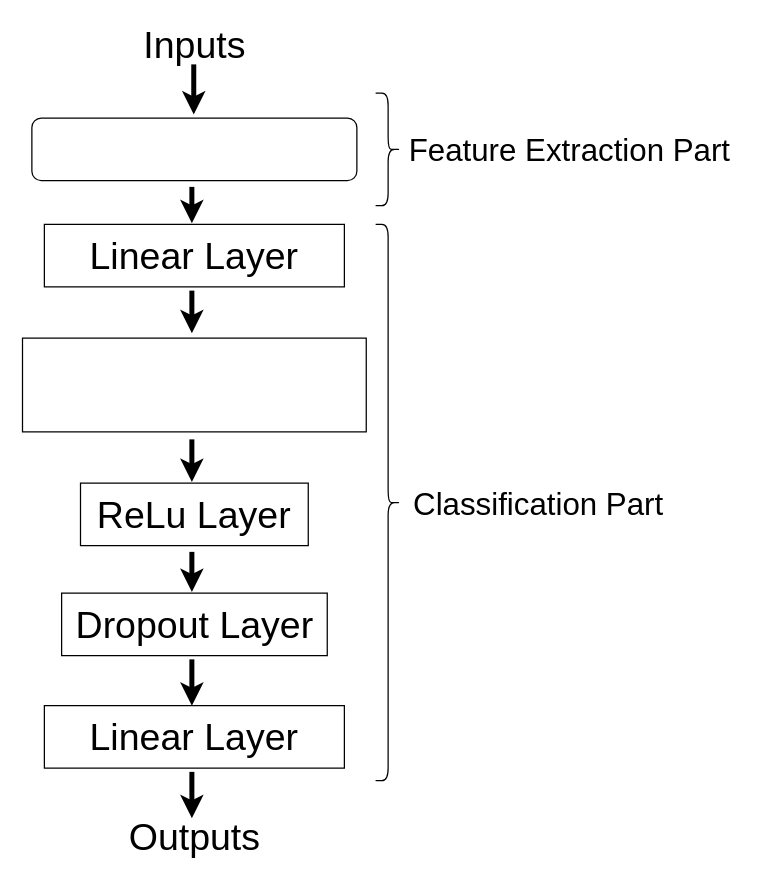
Image size: 759x880. Some labels were removed from this diagram. The shapes that lost their labels are listed below. From the top down, each one's box as (x1, y1, x2, y2) in pixels, then its label:
(31, 117, 357, 181): DenseNet 121
(21, 337, 366, 432): Batch Normalization Layer
